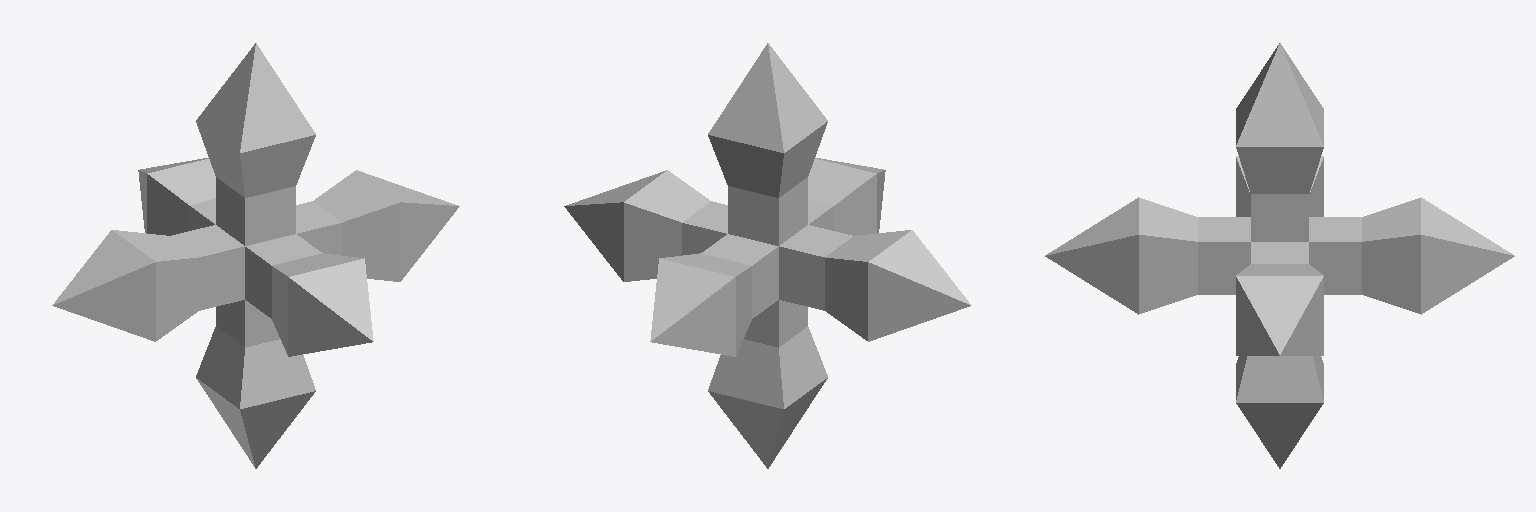
The model's file is extend_gizmo.obj.
The picture shows the model from 3 angles: view 1: azimuth 30°, elevation 25°; view 2: azimuth 150°, elevation 25°; view 3: azimuth 270°, elevation 25°; orthographic projection.
Visible parts, largest first — view 1: Cube; view 2: Cube; view 3: Cube.
Boxes of the visible parts, box(x1,y1,x2,y2) form: Cube: box(52, 43, 459, 468); Cube: box(564, 43, 971, 468); Cube: box(1045, 43, 1514, 468).
Bounding box in the file's own units: 2 × 2 × 2.